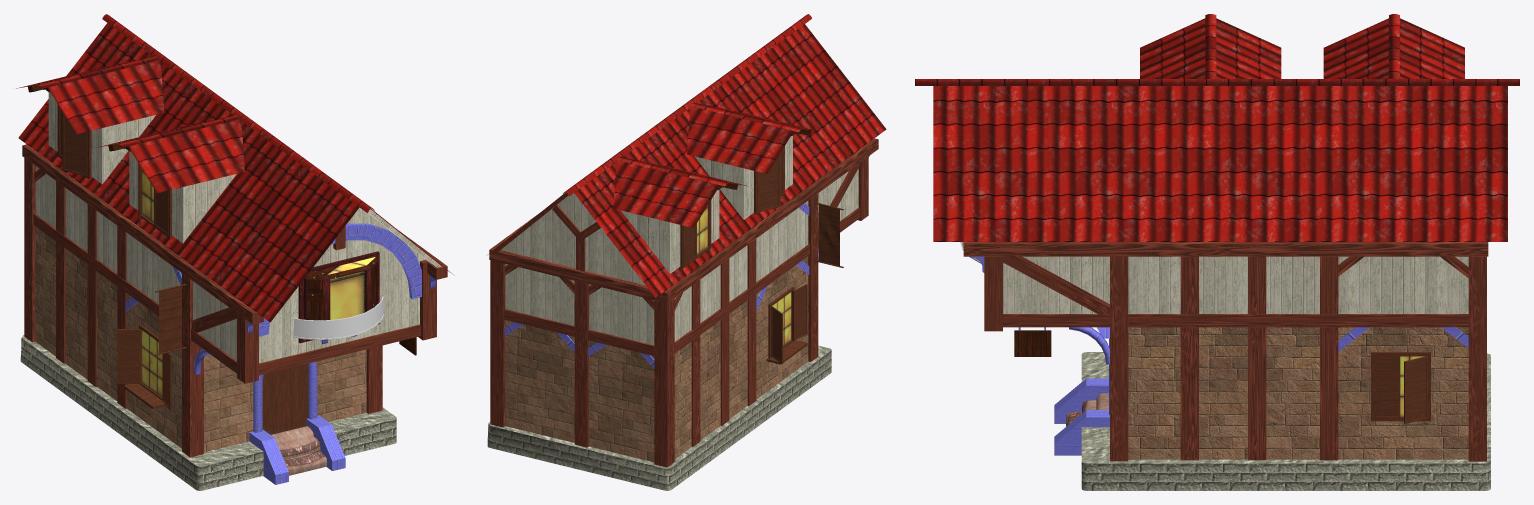
Rendered from House1.fbx.
3 views of the same model, side by side, from view 1: azimuth 30°, elevation 25°; view 2: azimuth 150°, elevation 25°; view 3: azimuth 270°, elevation 25° (orthographic). The views are drawn at different scales.
Visible parts, largest first — view 1: Combined_HouseRoot_Mesh_8, Combined_HouseRoot_Mesh_6, Combined_HouseRoot_Mesh_11, Combined_HouseRoot_Mesh_1, Combined_HouseRoot_Mesh, Combined_HouseRoot_Mesh_2, Combined_HouseRoot_Mesh_3, Combined_HouseRoot_Mesh_12, Combined_HouseRoot_Mesh_4, Combined_HouseRoot_Mesh_7, Combined_HouseRoot_Mesh_10, Combined_HouseRoot_Mesh_9 (+1 smaller); view 2: Combined_HouseRoot_Mesh_8, Combined_HouseRoot_Mesh_6, Combined_HouseRoot_Mesh_1, Combined_HouseRoot_Mesh_11, Combined_HouseRoot_Mesh, Combined_HouseRoot_Mesh_2, Combined_HouseRoot_Mesh_7, Combined_HouseRoot_Mesh_5, Combined_HouseRoot_Mesh_3; view 3: Combined_HouseRoot_Mesh_8, Combined_HouseRoot_Mesh_6, Combined_HouseRoot_Mesh_1, Combined_HouseRoot_Mesh_11, Combined_HouseRoot_Mesh, Combined_HouseRoot_Mesh_7, Combined_HouseRoot_Mesh_2, Combined_HouseRoot_Mesh_3, Combined_HouseRoot_Mesh_13.
Boxes of the visible parts, bbox=[...] form: Combined_HouseRoot_Mesh_8: bbox=[16, 23, 454, 322]; Combined_HouseRoot_Mesh_6: bbox=[22, 144, 447, 457]; Combined_HouseRoot_Mesh_11: bbox=[35, 92, 441, 363]; Combined_HouseRoot_Mesh_1: bbox=[35, 227, 366, 452]; Combined_HouseRoot_Mesh: bbox=[20, 335, 396, 490]; Combined_HouseRoot_Mesh_2: bbox=[57, 104, 171, 409]; Combined_HouseRoot_Mesh_3: bbox=[125, 223, 435, 484]; Combined_HouseRoot_Mesh_12: bbox=[298, 251, 379, 343]; Combined_HouseRoot_Mesh_4: bbox=[262, 364, 308, 434]; Combined_HouseRoot_Mesh_7: bbox=[102, 14, 374, 212]; Combined_HouseRoot_Mesh_10: bbox=[293, 296, 383, 339]; Combined_HouseRoot_Mesh_9: bbox=[271, 426, 327, 475]; Combined_HouseRoot_Mesh_8: bbox=[488, 24, 886, 297]; Combined_HouseRoot_Mesh_6: bbox=[489, 138, 878, 467]; Combined_HouseRoot_Mesh_1: bbox=[505, 256, 808, 462]; Combined_HouseRoot_Mesh_11: bbox=[501, 136, 858, 345]; Combined_HouseRoot_Mesh: bbox=[487, 345, 831, 490]; Combined_HouseRoot_Mesh_2: bbox=[680, 146, 807, 364]; Combined_HouseRoot_Mesh_7: bbox=[563, 14, 811, 195]; Combined_HouseRoot_Mesh_5: bbox=[813, 198, 843, 267]; Combined_HouseRoot_Mesh_3: bbox=[504, 155, 869, 368]; Combined_HouseRoot_Mesh_8: bbox=[933, 14, 1507, 241]; Combined_HouseRoot_Mesh_6: bbox=[963, 242, 1488, 461]; Combined_HouseRoot_Mesh_1: bbox=[1128, 327, 1468, 459]; Combined_HouseRoot_Mesh_11: bbox=[1003, 256, 1468, 313]; Combined_HouseRoot_Mesh: bbox=[1081, 352, 1490, 490]; Combined_HouseRoot_Mesh_7: bbox=[915, 79, 1519, 85]; Combined_HouseRoot_Mesh_2: bbox=[1371, 352, 1430, 423]; Combined_HouseRoot_Mesh_3: bbox=[969, 256, 1468, 455]; Combined_HouseRoot_Mesh_13: bbox=[1014, 330, 1051, 356].
Size of the model in its own units: 871 by 1122 by 1724.
